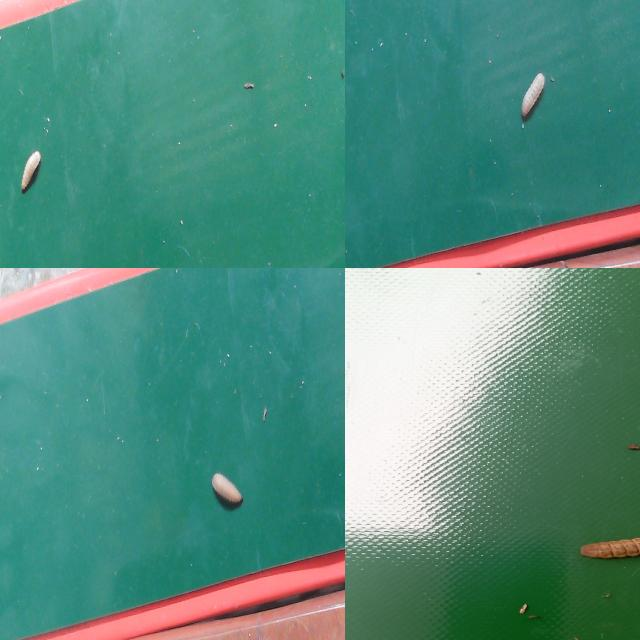Maggot: (578, 539, 640, 562), (520, 73, 547, 125), (210, 474, 245, 512), (18, 151, 43, 193)
